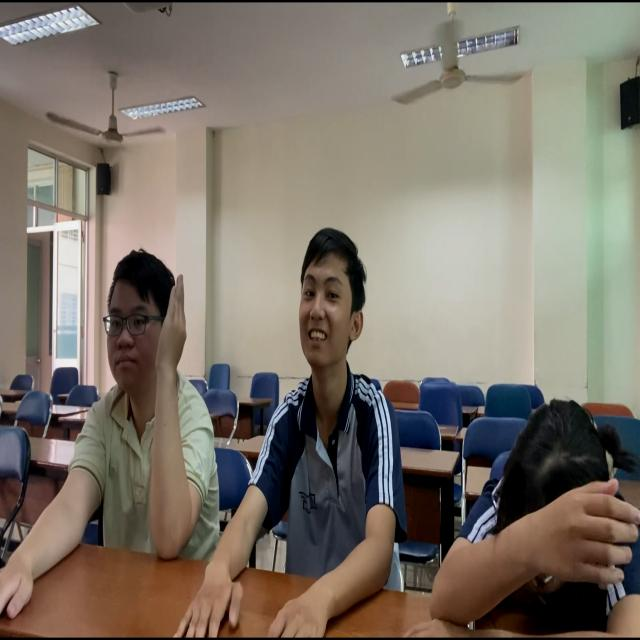raise_hand: (41, 229, 216, 566)
sleep: (432, 397, 640, 640)
